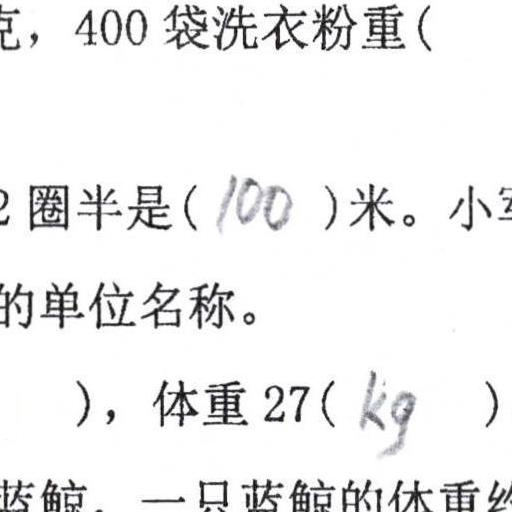ans: (353, 364, 417, 457), (213, 166, 293, 234)
